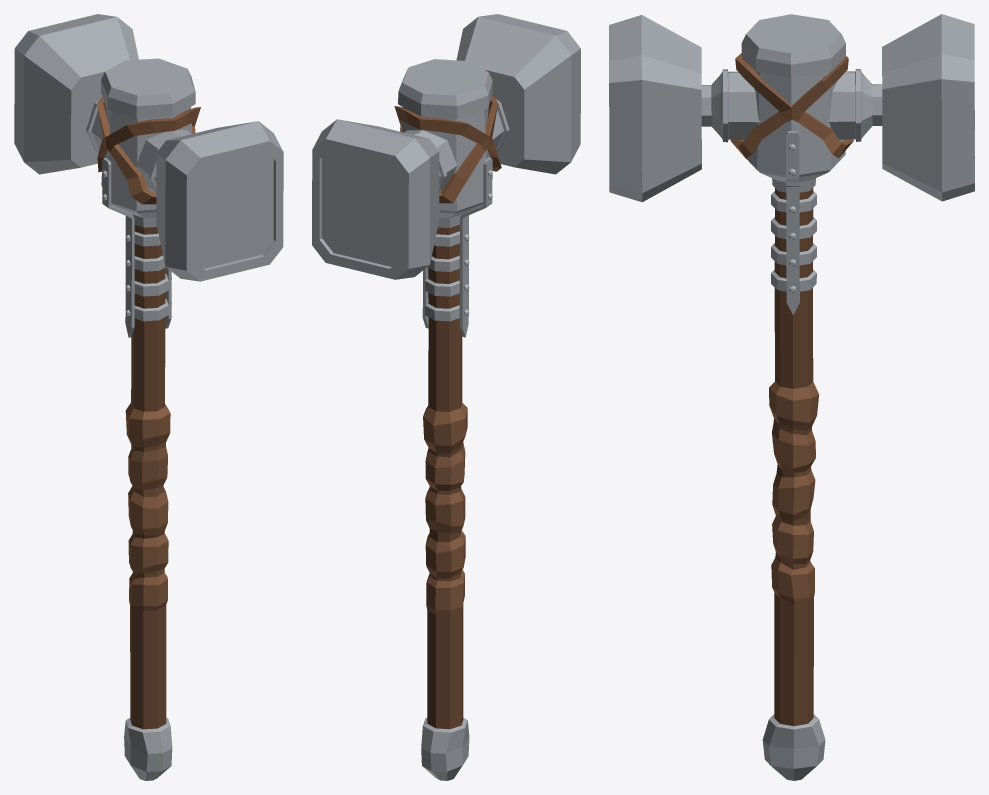
The model's file is maul.glb.
3 renders of one model, left to right at view 1: azimuth 30°, elevation 25°; view 2: azimuth 150°, elevation 25°; view 3: azimuth 270°, elevation 25°, orthographic. The views are drawn at different scales.
Visible parts, largest first — view 1: maul; view 2: maul; view 3: maul.
Boxes of the visible parts, left/top/right/bottom form: maul: left=14, top=14, right=283, bottom=780; maul: left=312, top=14, right=580, bottom=780; maul: left=609, top=14, right=974, bottom=780.
Bounding box in the file's own units: 0.1945 × 1.2 × 0.5358.
